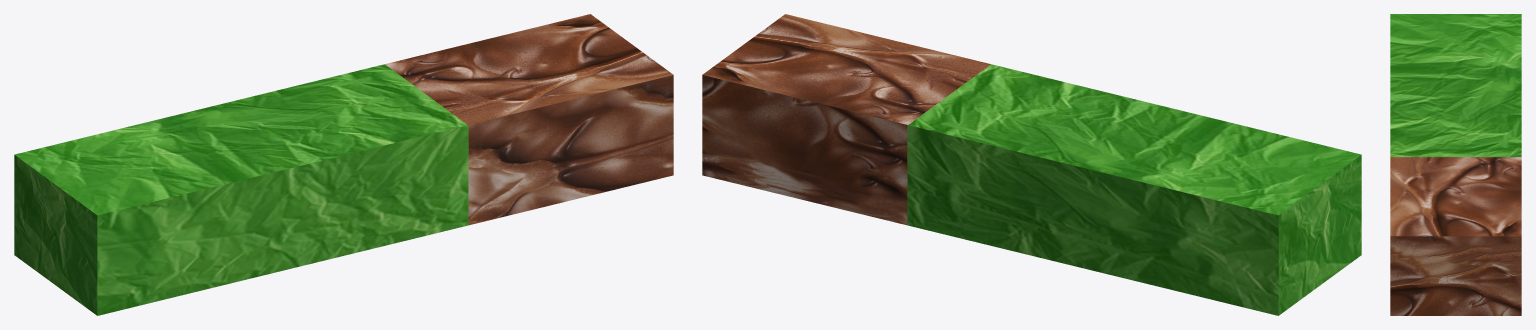
Rendered from bar.glb.
3 renders of one model, left to right at view 1: azimuth 30°, elevation 25°; view 2: azimuth 150°, elevation 25°; view 3: azimuth 270°, elevation 25°, orthographic. The views are drawn at different scales.
Parts seen in each view (by area): view 1: Cube; view 2: Cube; view 3: Cube.
Boxes of the visible parts, x1,y1,x2,y2 form: Cube: (14, 14, 673, 315); Cube: (702, 14, 1361, 315); Cube: (1390, 14, 1521, 315).
Bounding box in the file's own units: 12 × 2 × 3.
1 material, 1 textured.
